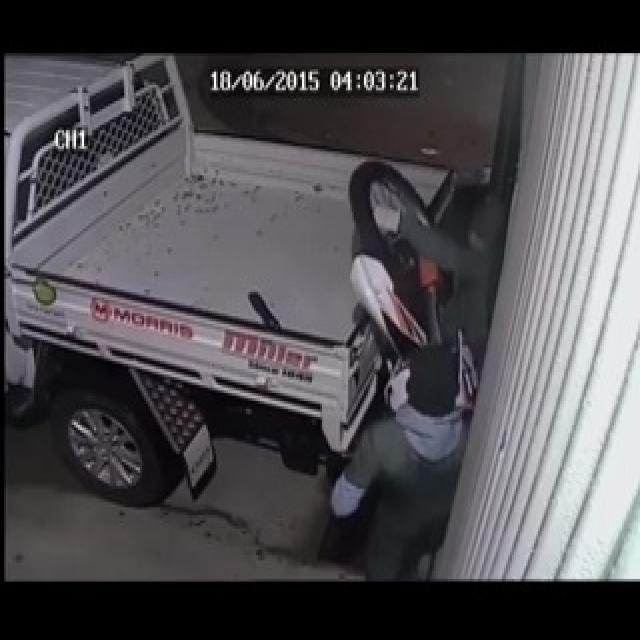thief: (390, 323, 477, 457), (444, 162, 514, 290)
